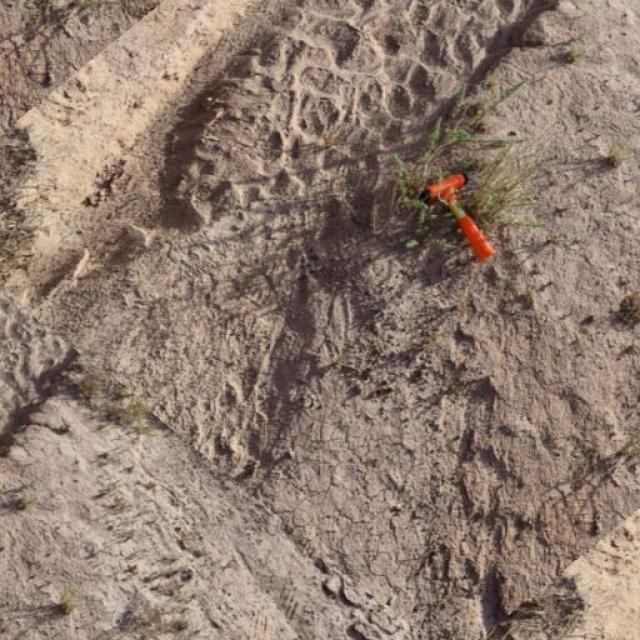mallet: (418, 170, 497, 261)
